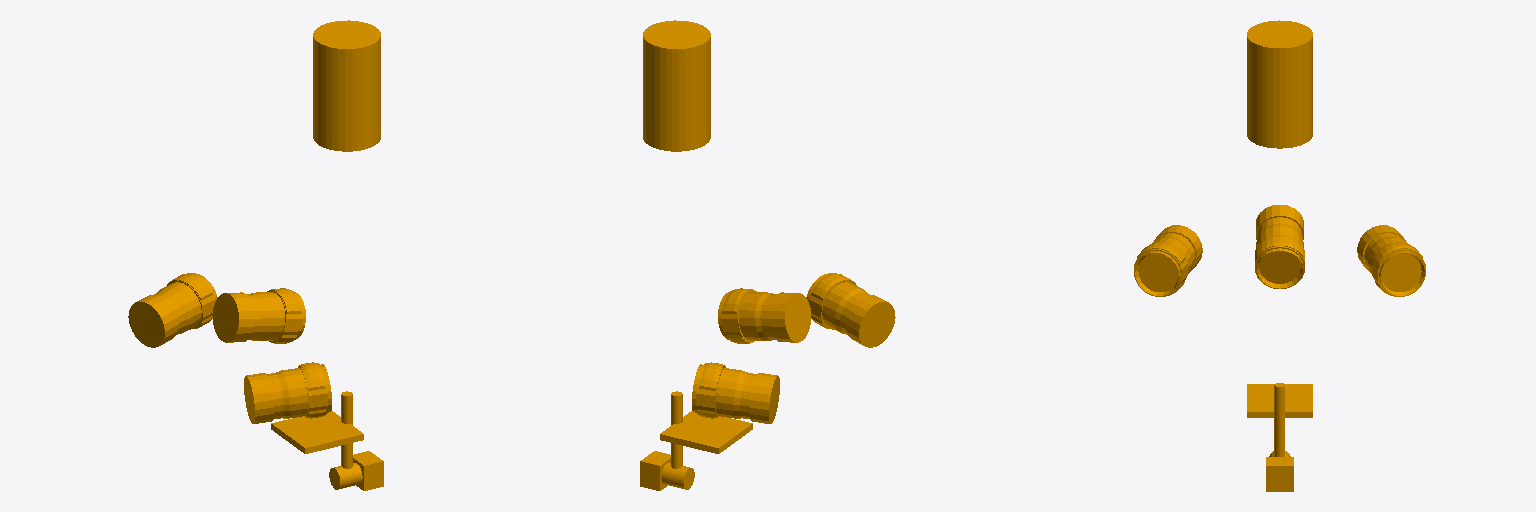
The robot description file, URDF, robot "X4":
<?xml version='1.0' encoding='utf-8'?>
<robot name='X4'>
  <link name='base_link'>
    <inertial>
      <origin xyz='0 0 0' rpy='0 -0 0'/>
      <mass value='3.42'/>
      <inertia ixx='0.075' ixy='0' ixz='0' iyy='0.075' iyz='0' izz='0.148916'/>
    </inertial>
    <collision name='base_link_inertia_collision'>
      <origin xyz='0 0 0' rpy='0 -0 0'/>
      <geometry>
        <box size='0.3 0.3 0.25'/>
      </geometry>
    </collision>
    <visual name='base_link_inertia_visual'>
      <origin xyz='0 0 0' rpy='0 -0 0'/>
      <geometry>
        <mesh filename='meshes/x4.dae' scale='1 1 1'/>
      </geometry>
    </visual>
    <visual name='marker_visual_1'>
      <origin xyz='-0.1 0 0.077' rpy='0 -0.1 0'/>
      <geometry>
        <mesh filename='meshes/led.dae' scale='1 1 1'/>
      </geometry>
    </visual>
    <visual name='marker_visual_2'>
      <origin xyz='-0.09 0.059 0.059' rpy='-0.785397 -0 0.2'/>
      <geometry>
        <mesh filename='meshes/led.dae' scale='1 1 1'/>
      </geometry>
    </visual>
    <visual name='marker_visual_3'>
      <origin xyz='-0.09 -0.059 0.059' rpy='0.785397 -0 -0.2'/>
      <geometry>
        <mesh filename='meshes/led.dae' scale='1 1 1'/>
      </geometry>
    </visual>
    <visual name='downward_flashlight_visual'>
      <origin xyz='-0.043704 0 0.102914' rpy='-0.2 0.000158 -1.57002'/>
      <geometry>
        <mesh filename='meshes/spotlight.dae' scale='0.01 0.01 0.01'/>
      </geometry>
    </visual>
    <visual name='left_flashlight_visual'>
      <origin xyz='-0.071985 0.090826 0.066102' rpy='0.06 -4.8e-05 -1.27'/>
      <geometry>
        <mesh filename='meshes/spotlight.dae' scale='0.01 0.01 0.01'/>
      </geometry>
    </visual>
    <visual name='right_flashlight_visual'>
      <origin xyz='-0.071985 -0.090826 0.066102' rpy='0.06 -4.8e-05 -1.87'/>
      <geometry>
        <mesh filename='meshes/spotlight.dae' scale='0.01 0.01 0.01'/>
      </geometry>
    </visual>
    <visual name='camera_mount_base_visual'>
      <origin xyz='0.05 0 -0.03' rpy='0 -0 0'/>
      <geometry>
        <box size='0.06 0.06 0.006'/>
      </geometry>
    </visual>
    <visual name='camera_mount_arm_visual'>
      <origin xyz='0.08 0 -0.04' rpy='0 -0 0'/>
      <geometry>
        <cylinder radius='0.005' length='0.08'/>
      </geometry>
    </visual>
    <visual name='camera_mount_arm2_visual'>
      <origin xyz='0.08 0 -0.08' rpy='0 1.57 0'/>
      <geometry>
        <cylinder radius='0.01' length='0.025'/>
      </geometry>
    </visual>
    <visual name='camera_visual'>
      <origin xyz='0.1 0 -0.08' rpy='0 -0 0'/>
      <geometry>
        <box size='0.02 0.025 0.025'/>
      </geometry>
    </visual>
    <visual name='laser_visual'>
      <origin xyz='0.08 0 0.3' rpy='0 -0 0'/>
      <geometry>
        <cylinder radius='0.03' length='0.1'/>
      </geometry>
    </visual>
  </link>
  <sensor name='imu_sensor' update_rate='250'>
    <parent link='base_link'/>
    <origin xyz='0 0 0' rpy='0 -0 0'/>
  </sensor>
  <sensor name='air_pressure' update_rate='20'>
    <parent link='base_link'/>
    <origin xyz='0 0 0' rpy='0 -0 0'/>
  </sensor>
  <sensor name='magnetometer' update_rate='20'>
    <parent link='base_link'/>
    <origin xyz='0 0 0' rpy='0 -0 0'/>
  </sensor>
  <sensor name='camera_front' update_rate='20'>
    <parent link='base_link'/>
    <origin xyz='0.1 0 -0.08' rpy='0 -0 0'/>
    <camera>
      <image width='1280' height='960' format='R8G8B8' hfov='1.0472' near='0.02' far='300' />
    </camera>
  </sensor>
  <sensor name='front_laser' update_rate='15'>
    <parent link='base_link'/>
    <origin xyz='0.08 0 0.394' rpy='0 -0 0'/>
  </sensor>
  <link name='rotor_0'>
    <inertial>
      <origin xyz='0 0 0' rpy='0 -0 0'/>
      <mass value='0.005'/>
      <inertia ixx='9.75e-07' ixy='0' ixz='0' iyy='8.13545e-05' iyz='0' izz='8.22545e-05'/>
    </inertial>
    <collision name='rotor_0_collision'>
      <origin xyz='0 0 0' rpy='0 -0 0'/>
      <geometry>
        <cylinder radius='0.1397' length='0.005'/>
      </geometry>
    </collision>
    <visual name='rotor_0_visual'>
      <origin xyz='0 0 0' rpy='0 -0 0'/>
      <geometry>
        <mesh filename='meshes/neo11_propeller_ccw.dae' scale='1 1 1'/>
      </geometry>
    </visual>
  </link>
  <link name='rotor_1'>
    <inertial>
      <origin xyz='0 0 0' rpy='0 -0 0'/>
      <mass value='0.005'/>
      <inertia ixx='9.75e-07' ixy='0' ixz='0' iyy='8.13545e-05' iyz='0' izz='8.22545e-05'/>
    </inertial>
    <collision name='rotor_1_collision'>
      <origin xyz='0 0 0' rpy='0 -0 0'/>
      <geometry>
        <cylinder radius='0.1397' length='0.005'/>
      </geometry>
    </collision>
    <visual name='rotor_1_visual'>
      <origin xyz='0 0 0' rpy='0 -0 0'/>
      <geometry>
        <mesh filename='meshes/neo11_propeller_cw.dae' scale='1 1 1'/>
      </geometry>
    </visual>
  </link>
  <link name='rotor_2'>
    <inertial>
      <origin xyz='0 0 0' rpy='0 -0 0'/>
      <mass value='0.005'/>
      <inertia ixx='9.75e-07' ixy='0' ixz='0' iyy='8.13545e-05' iyz='0' izz='8.22545e-05'/>
    </inertial>
    <collision name='rotor_2_collision'>
      <origin xyz='0 0 0' rpy='0 -0 0'/>
      <geometry>
        <cylinder radius='0.1397' length='0.005'/>
      </geometry>
    </collision>
    <visual name='rotor_2_visual'>
      <origin xyz='0 0 0' rpy='0 -0 0'/>
      <geometry>
        <mesh filename='meshes/neo11_propeller_ccw.dae' scale='1 1 1'/>
      </geometry>
    </visual>
  </link>
  <link name='rotor_3'>
    <inertial>
      <origin xyz='0 0 0' rpy='0 -0 0'/>
      <mass value='0.005'/>
      <inertia ixx='9.75e-07' ixy='0' ixz='0' iyy='8.13545e-05' iyz='0' izz='8.22545e-05'/>
    </inertial>
    <collision name='rotor_3_collision'>
      <origin xyz='0 0 0' rpy='0 -0 0'/>
      <geometry>
        <cylinder radius='0.1397' length='0.005'/>
      </geometry>
    </collision>
    <visual name='rotor_3_visual'>
      <origin xyz='0 0 0' rpy='0 -0 0'/>
      <geometry>
        <mesh filename='meshes/neo11_propeller_cw.dae' scale='1 1 1'/>
      </geometry>
    </visual>
  </link>
  <link name='rotor_4'>
    <inertial>
      <origin xyz='0 0 0' rpy='-0 -0 -0'/>
      <mass value='0.005'/>
      <inertia ixx='9.75e-07' ixy='0' ixz='0' iyy='8.13545e-05' iyz='0' izz='8.22545e-05'/>
    </inertial>
    <collision name='rotor_4_collision'>
      <origin xyz='0 0 0' rpy='-0 -0 -0'/>
      <geometry>
        <cylinder radius='0.1397' length='0.005'/>
      </geometry>
    </collision>
    <visual name='rotor_4_visual'>
      <origin xyz='0 0 0' rpy='-0 -0 -0'/>
      <geometry>
        <mesh filename='meshes/neo11_propeller_ccw.dae' scale='1 1 1'/>
      </geometry>
    </visual>
  </link>
  <link name='rotor_5'>
    <inertial>
      <origin xyz='0 0 0' rpy='0 -0 0'/>
      <mass value='0.005'/>
      <inertia ixx='9.75e-07' ixy='0' ixz='0' iyy='8.13545e-05' iyz='0' izz='8.22545e-05'/>
    </inertial>
    <collision name='rotor_5_collision'>
      <origin xyz='0 0 0' rpy='0 -0 0'/>
      <geometry>
        <cylinder radius='0.1397' length='0.005'/>
      </geometry>
    </collision>
    <visual name='rotor_5_visual'>
      <origin xyz='0 0 0' rpy='0 -0 0'/>
      <geometry>
        <mesh filename='meshes/neo11_propeller_cw.dae' scale='1 1 1'/>
      </geometry>
    </visual>
  </link>
  <joint name='rotor_0_joint' type='revolute'>
    <origin xyz='0.247 0.1506 0.028' rpy='0.087267 0 0.523599'/>
    <parent link='base_link'/>
    <child link='rotor_0'/>
    <dynamics damping='0' friction='0' />
    <axis xyz='0.118748 -0.118521 0.985826'/>
    <limit lower='-1e+16' upper='1e+16' effort='-1' velocity='-1'/>
  </joint>
  <joint name='rotor_1_joint' type='revolute'>
    <origin xyz='-0.00067 0.28929 0.028' rpy='0 -0.087267 0'/>
    <parent link='base_link'/>
    <child link='rotor_1'/>
    <dynamics damping='0' friction='0' />
    <axis xyz='-0.173649 0 0.984808'/>
    <limit lower='-1e+16' upper='1e+16' effort='-1' velocity='-1'/>
  </joint>
  <joint name='rotor_2_joint' type='revolute'>
    <origin xyz='-0.2501 0.1454 0.028' rpy='0.087267 -0 2.61799'/>
    <parent link='base_link'/>
    <child link='rotor_2'/>
    <dynamics damping='0' friction='0' />
    <axis xyz='-0.031923 0.031863 0.998983'/>
    <limit lower='-1e+16' upper='1e+16' effort='-1' velocity='-1'/>
  </joint>
  <joint name='rotor_3_joint' type='revolute'>
    <origin xyz='-0.2501 -0.1454 0.028' rpy='-0.087267 -0 -2.61799'/>
    <parent link='base_link'/>
    <child link='rotor_3'/>
    <dynamics damping='0' friction='0' />
    <axis xyz='-0.031923 -0.031863 0.998983'/>
    <limit lower='-1e+16' upper='1e+16' effort='-1' velocity='-1'/>
  </joint>
  <joint name='rotor_4_joint' type='revolute'>
    <origin xyz='-0.00067 -0.28929 0.028' rpy='-0 0.087267 -3.14159'/>
    <parent link='base_link'/>
    <child link='rotor_4'/>
    <dynamics damping='0' friction='0' />
    <axis xyz='-0 -0 1'/>
    <limit lower='-1e+16' upper='1e+16' effort='-1' velocity='-1'/>
  </joint>
  <joint name='rotor_5_joint' type='revolute'>
    <origin xyz='0.247 -0.1506 0.028' rpy='-0.087267 0 -0.523599'/>
    <parent link='base_link'/>
    <child link='rotor_5'/>
    <dynamics damping='0' friction='0' />
    <axis xyz='0.118748 0.118521 0.985826'/>
    <limit lower='-1e+16' upper='1e+16' effort='-1' velocity='-1'/>
  </joint>
</robot>

--- Render facts (derived) ---
3 views of the same robot in one strip: view 1: azimuth 30°, elevation 25°; view 2: azimuth 150°, elevation 25°; view 3: azimuth 270°, elevation 25° (orthographic).
Robot: X4 — 7 links, 6 joints (6 revolute); root link base_link; default pose: every joint at zero.
Visible links, largest first — view 1: base_link; view 2: base_link; view 3: base_link.
Link boxes in pixels (<box>): base_link: <box>128,20,383,490</box>; base_link: <box>640,20,895,490</box>; base_link: <box>1134,20,1425,491</box>.
Bounding box of the posed robot: 0.1886 × 0.2644 × 0.4425 m (x, y, z).
3 mesh visuals loaded from 5 distinct referenced files (1 Collada DAE); not drawn: 10 (reference not matched to a file when rendering).